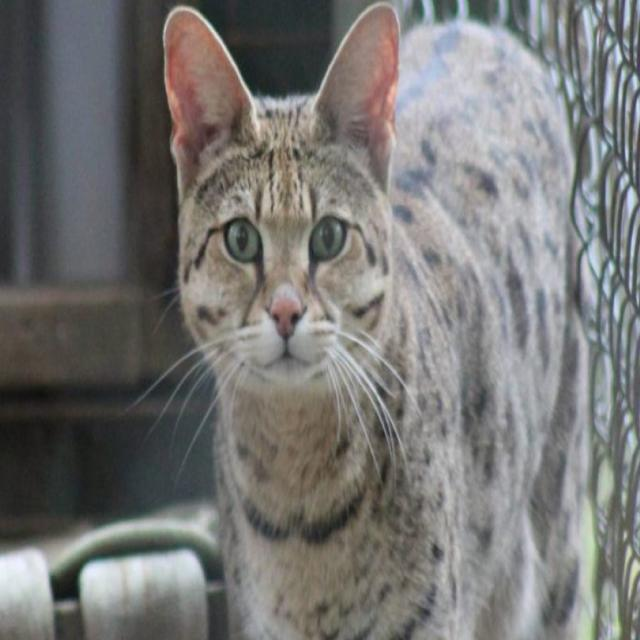Savannah: (157, 0, 594, 640)
